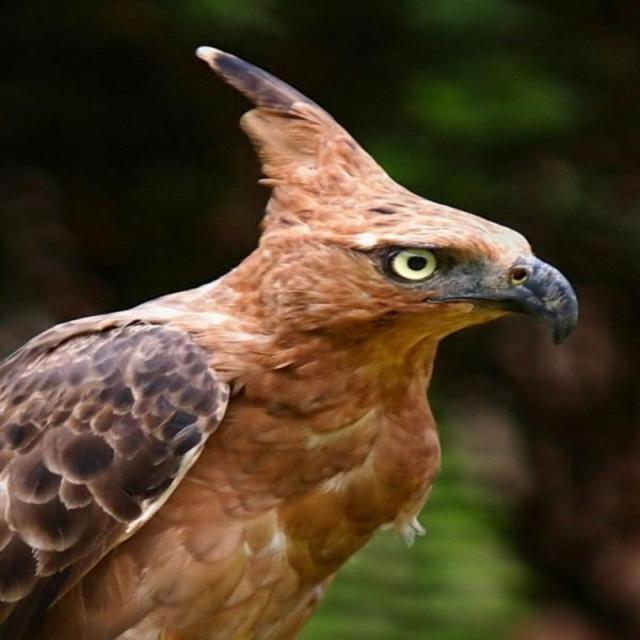Elang Jawa: (2, 31, 584, 640)
